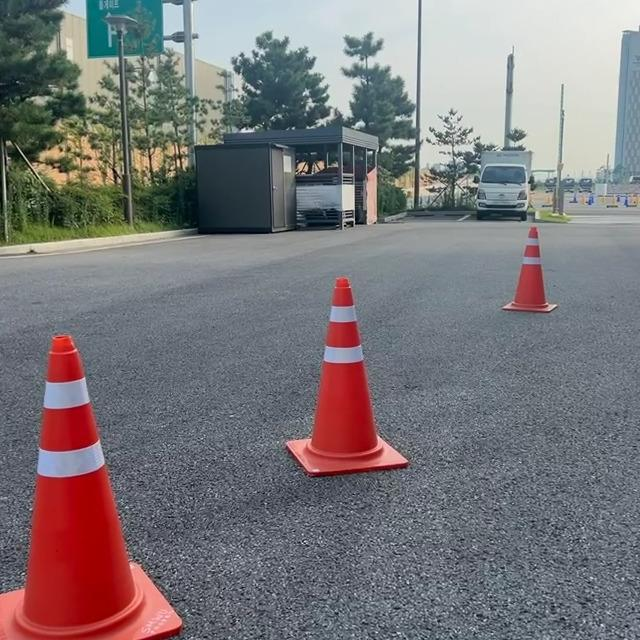fallen_object: (186, 265, 458, 496), (0, 315, 164, 640), (466, 227, 585, 338)
